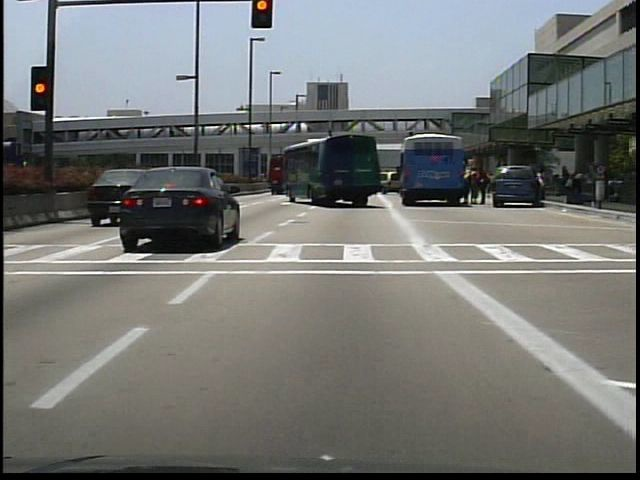person: (465, 162, 480, 204), (476, 164, 490, 208), (534, 167, 547, 206)
